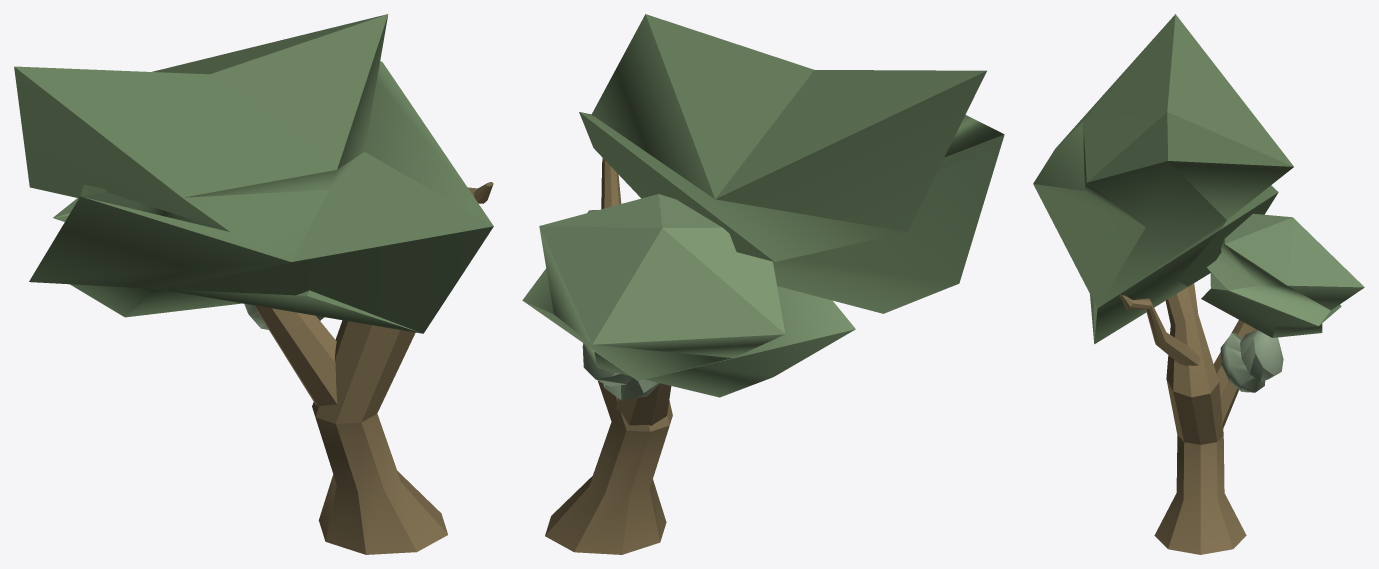
The model's file is Tree_01.fbx.
3 renders of one model, left to right at view 1: azimuth 30°, elevation 25°; view 2: azimuth 150°, elevation 25°; view 3: azimuth 270°, elevation 25°, orthographic. The views are drawn at different scales.
Parts seen in each view (by area): view 1: pSphere2, Root_01, Branch_02; view 2: pSphere2, pSphere1, Root_01, Branch_02, pCylinder1, Branch_01; view 3: pSphere2, pSphere1, Root_01, pCylinder1, Branch_01, Branch_02.
Part boxes in pixels (x1,y1,x2,y2): pSphere2: [14, 14, 493, 333]; Root_01: [312, 320, 447, 554]; Branch_02: [254, 305, 337, 406]; pSphere2: [579, 14, 1004, 313]; pSphere1: [522, 194, 855, 397]; Root_01: [545, 381, 672, 554]; Branch_02: [615, 383, 671, 425]; pCylinder1: [582, 344, 659, 400]; Branch_01: [601, 158, 621, 209]; pSphere2: [1033, 14, 1293, 344]; pSphere1: [1201, 213, 1364, 337]; Root_01: [1154, 283, 1246, 554]; pCylinder1: [1220, 330, 1283, 392]; Branch_01: [1120, 295, 1199, 366]; Branch_02: [1213, 320, 1257, 428].
Bounding box in the file's own units: 20.24 × 24.69 × 18.97.
